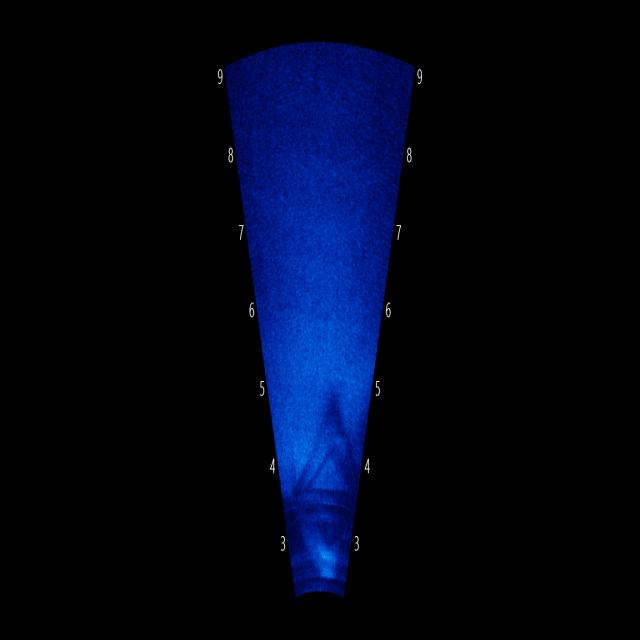triangle: (305, 428, 351, 512)
